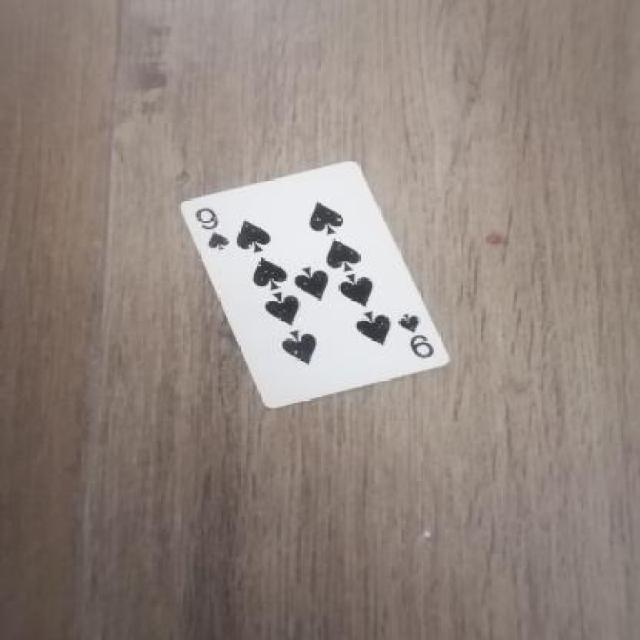9S: (398, 304, 440, 368), (192, 203, 231, 260)
